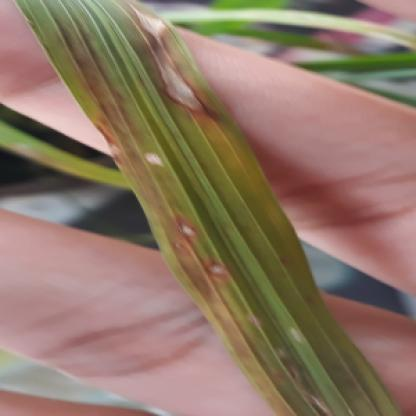Rice blast: (134, 5, 209, 130), (106, 120, 130, 176), (170, 216, 195, 245), (206, 256, 224, 283)
